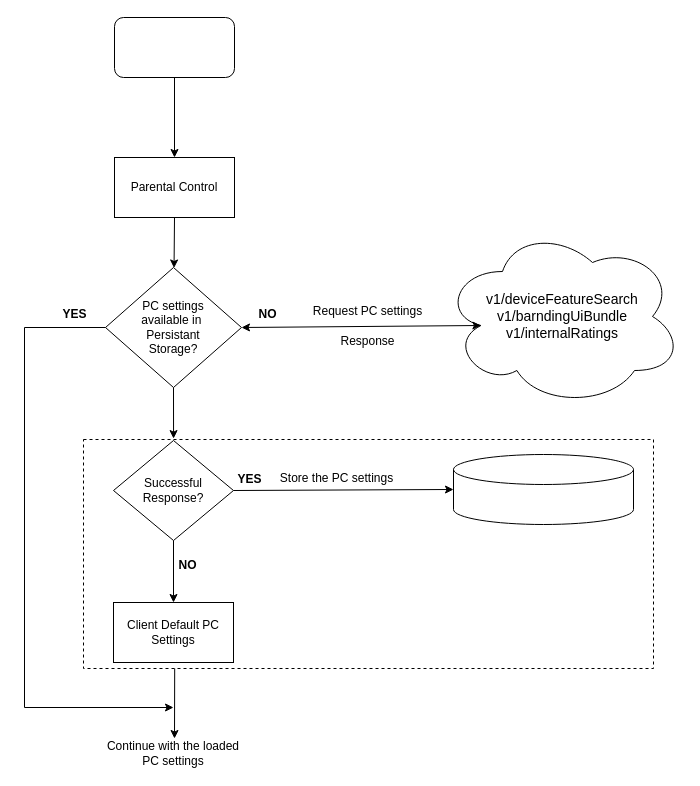
The diagram is 700 pixels wide and 786 high, and some of its shapes have lost their labels. The centre of each missing label's shape, as x and y in pixels:
"App Startup" belongs at point (174, 47).
"Persistant Storage" belongs at point (543, 489).
